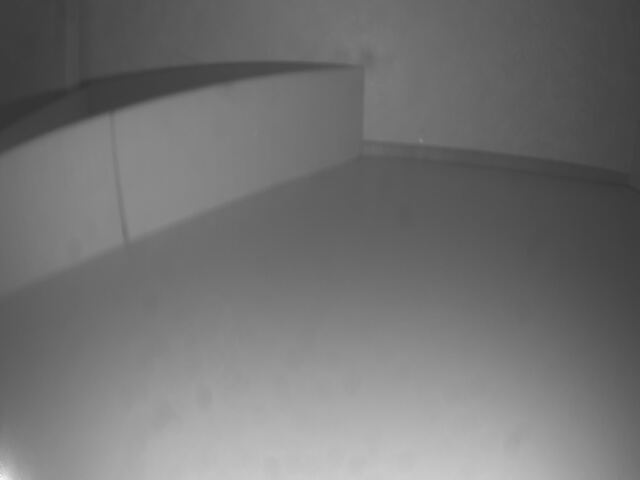Point: (0, 66, 367, 307)
